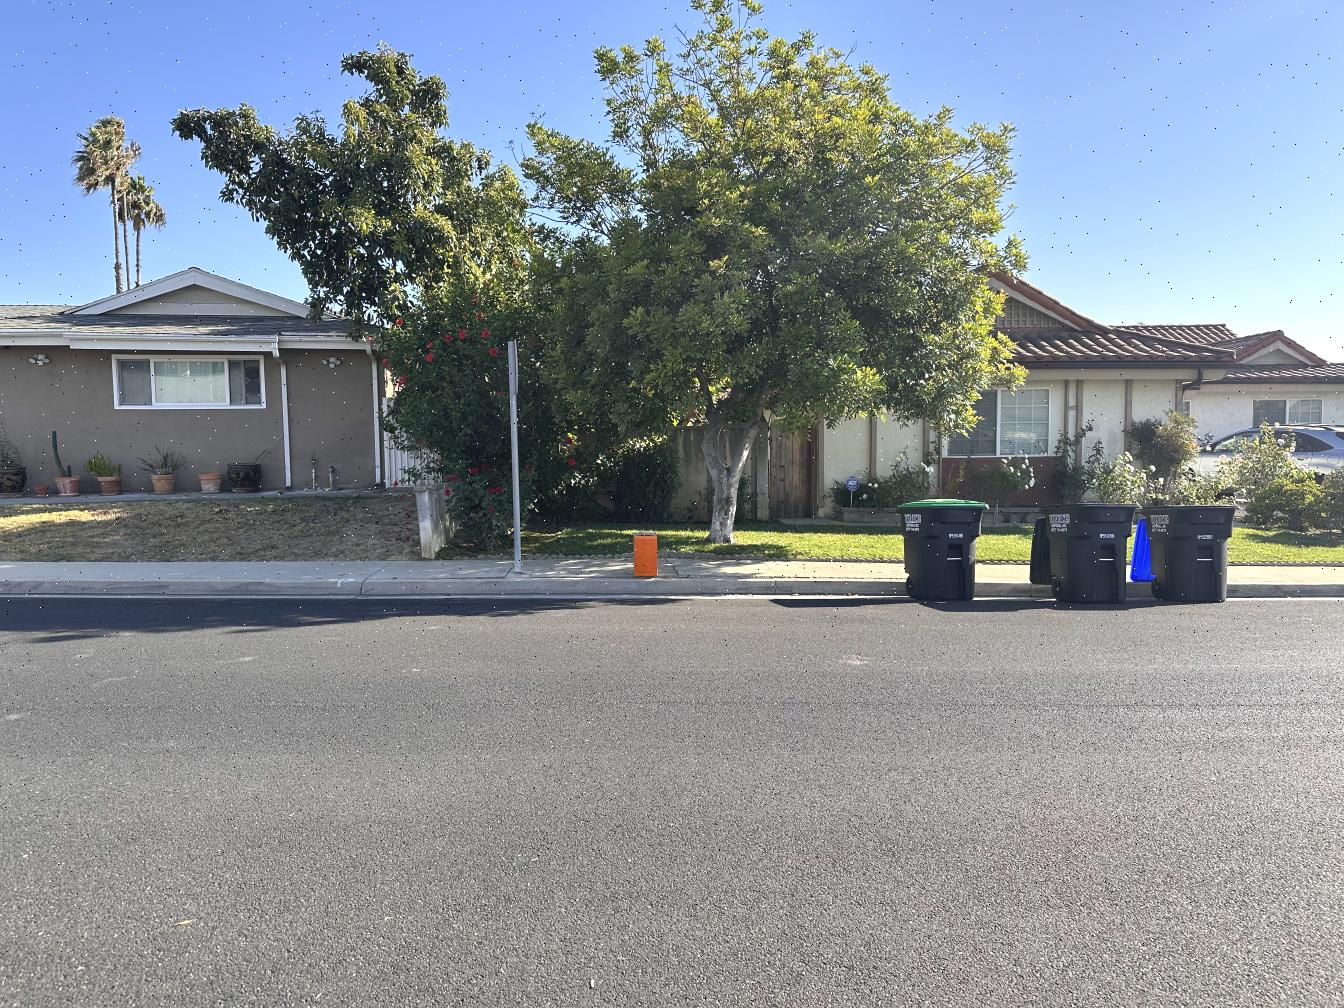curbs-laRr: (2, 572, 915, 603)
orange box: (634, 536, 658, 578)
